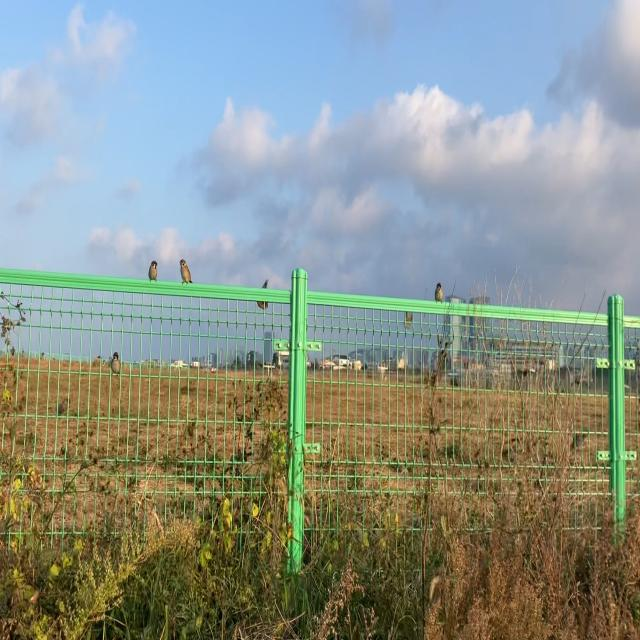bird: (180, 257, 194, 286), (257, 278, 269, 310), (148, 259, 160, 283), (112, 350, 121, 375), (435, 282, 444, 305)
